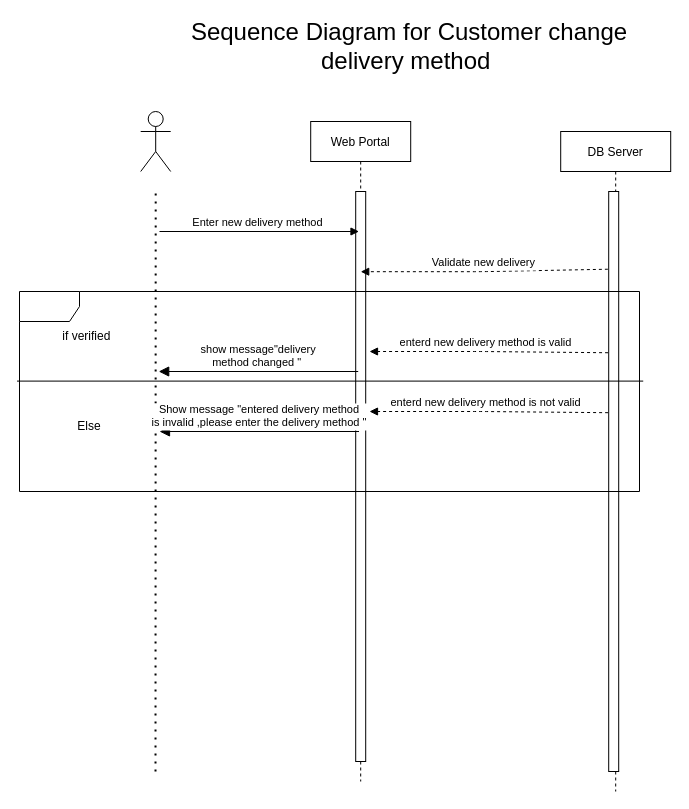
Image size: 689x809. Some labels were removed from this diagram. Here are the shapes that lost their labels. From the top down, the centre of each, then its label:
pixel 155 141: Customer
pixel 329 391: Alternative
